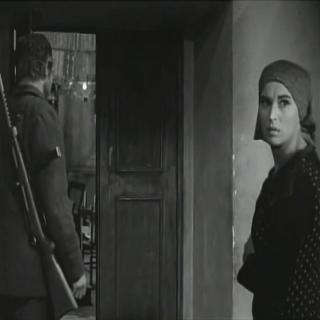gun: (0, 70, 84, 319)
